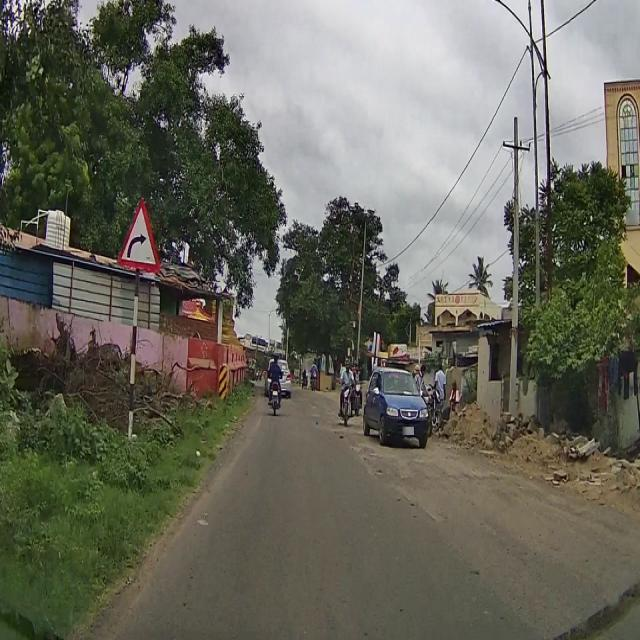right-hand-curve: (124, 201, 160, 265)
